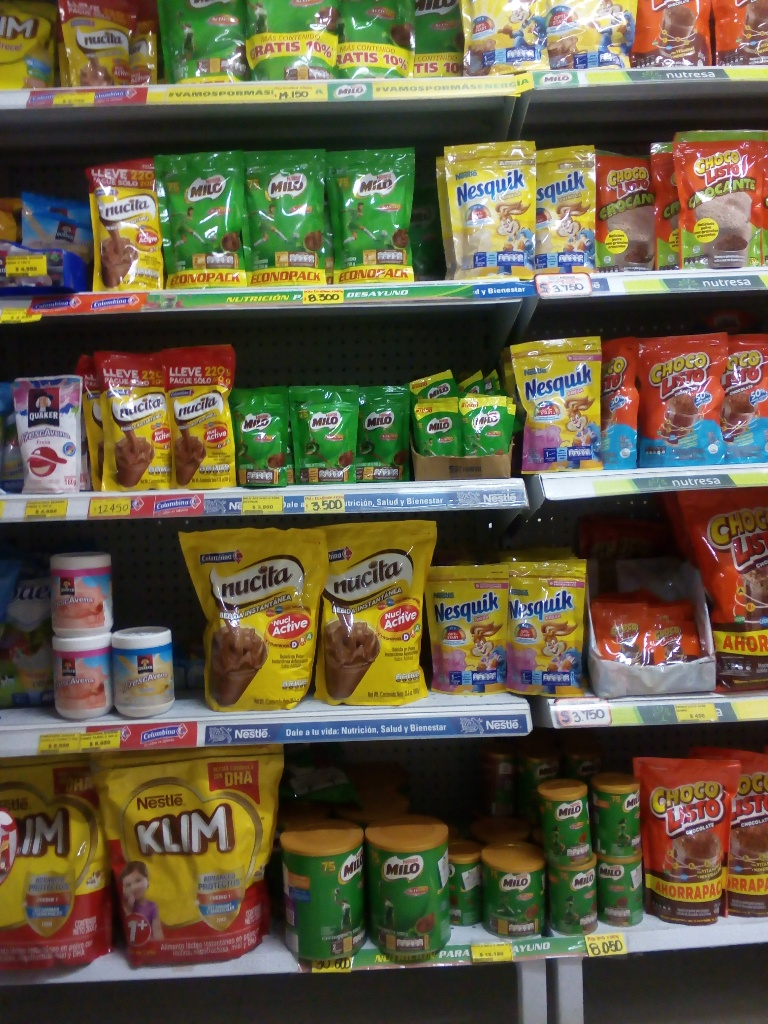COL0170102DYP25000: (678, 128, 767, 271)
COL0170103DYP1,500: (699, 484, 768, 687)
COL0170103DYP40000: (642, 756, 727, 924)
COL0170103SOB02000: (588, 600, 651, 678)
COL0170104DYP20000: (593, 332, 641, 469)
COL0170203DYP10000: (220, 386, 297, 492)
COL0170203DYP25000: (161, 154, 253, 286)
COL0170203DYP50000: (168, 0, 241, 75)
COL0170203LAT20000: (543, 779, 592, 866)
COL0170203LAT40000: (476, 846, 548, 939)
COL0170305DYP20000: (516, 336, 602, 467)
COL0170306DYP20000: (437, 136, 524, 276)
